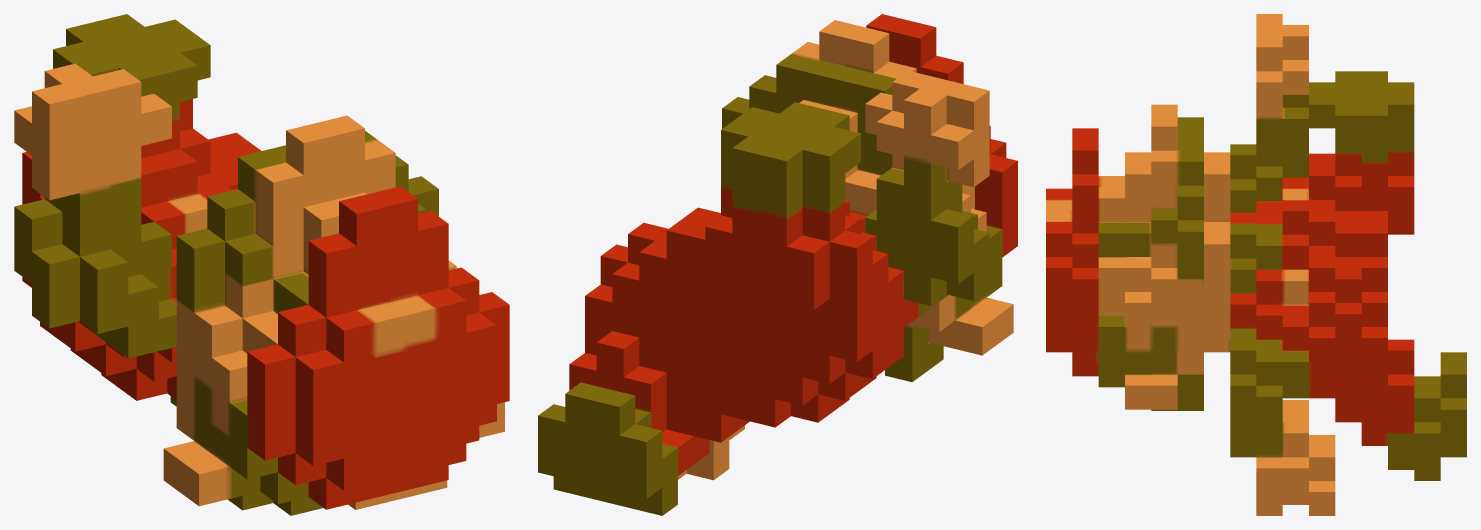
The model's file is mario_walk1.obj.
3 views of the same model, side by side, from view 1: azimuth 30°, elevation 25°; view 2: azimuth 150°, elevation 25°; view 3: azimuth 270°, elevation 25° (orthographic). The views are drawn at different scales.
Bounding box in the file's own units: 130 × 150 × 160.
1 material, 1 textured.
